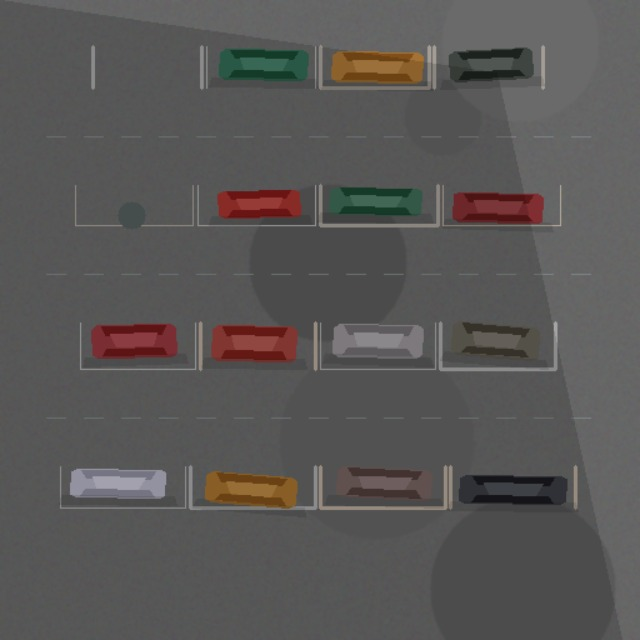space-empty: (75, 185, 192, 225), (92, 46, 201, 87)
space-occupied: (80, 322, 195, 369), (200, 322, 315, 369), (320, 322, 435, 369), (440, 322, 555, 369), (60, 466, 185, 507), (190, 466, 315, 507), (320, 466, 445, 507), (450, 466, 575, 507), (320, 185, 438, 225), (442, 185, 560, 225), (198, 185, 315, 225), (206, 46, 315, 87), (320, 46, 429, 87), (434, 46, 542, 87)
